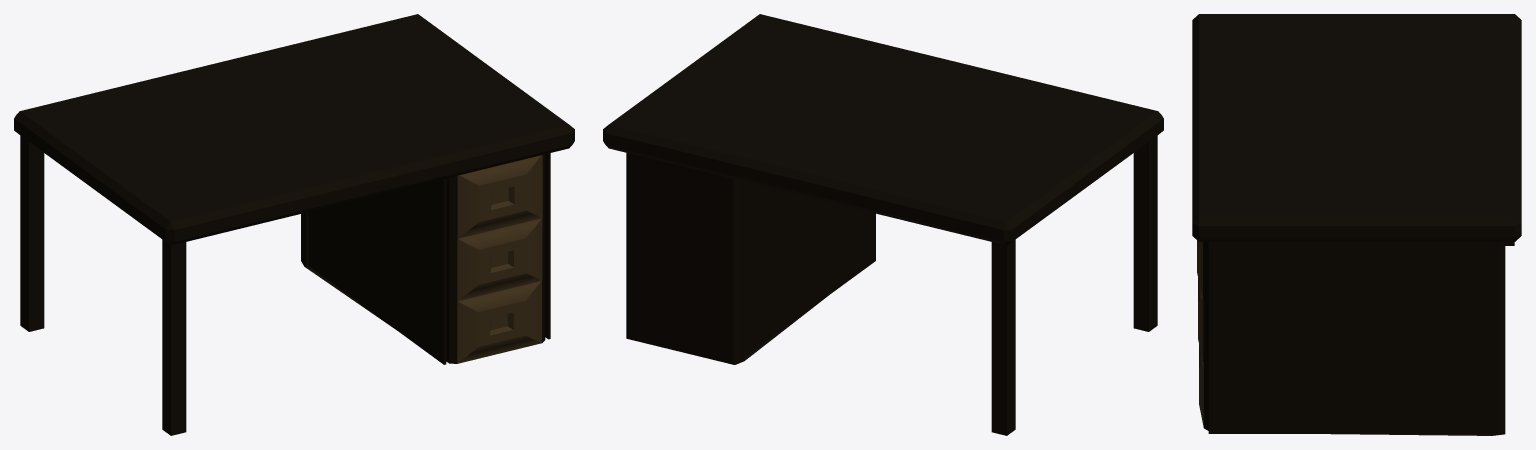
File: WorkTable_Standin.fbx
3 renders of one model, left to right at view 1: azimuth 30°, elevation 25°; view 2: azimuth 150°, elevation 25°; view 3: azimuth 270°, elevation 25°, orthographic. The views are drawn at different scales.
Visible parts, largest first — view 1: pCube4; view 2: pCube4; view 3: pCube4.
Part boxes in pixels (x1=…): pCube4: x1=14, y1=14, x2=574, y2=435; pCube4: x1=603, y1=14, x2=1163, y2=435; pCube4: x1=1192, y1=14, x2=1521, y2=435.
Size of the model in its own units: 3 by 1.5 by 2.
